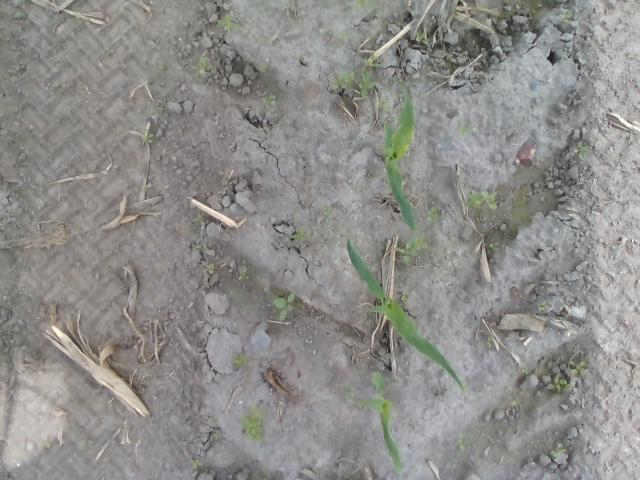Maize: (345, 237, 465, 393), (382, 78, 419, 231), (351, 371, 404, 475)
Weeds: (332, 71, 380, 94), (242, 405, 266, 444), (395, 236, 429, 261), (465, 188, 499, 212), (272, 291, 297, 323), (215, 12, 239, 32), (545, 376, 573, 393), (568, 359, 590, 377), (193, 56, 211, 73), (424, 206, 441, 222), (458, 125, 476, 140), (288, 229, 310, 241), (262, 93, 276, 111), (575, 142, 589, 160), (353, 2, 378, 12), (457, 432, 470, 450), (362, 56, 378, 69), (232, 355, 246, 369), (237, 266, 250, 281), (550, 448, 566, 460), (202, 262, 215, 276), (416, 29, 428, 44), (338, 30, 351, 43), (190, 459, 204, 470), (144, 132, 156, 144), (194, 214, 207, 223), (74, 14, 84, 24), (322, 207, 333, 216), (142, 184, 153, 193), (258, 63, 268, 72), (538, 300, 546, 311), (213, 430, 222, 439), (65, 280, 74, 288), (194, 244, 204, 251), (520, 368, 530, 374)
